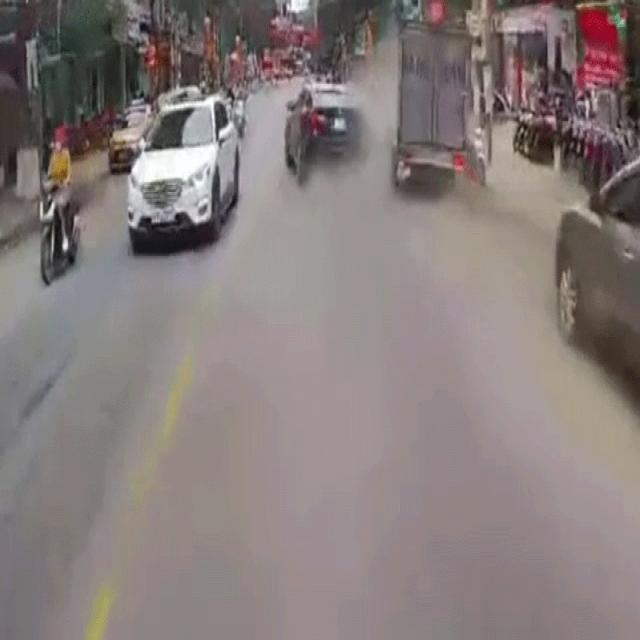multiple_accident: (280, 22, 478, 207)
normal: (114, 43, 249, 286), (40, 109, 87, 299)
